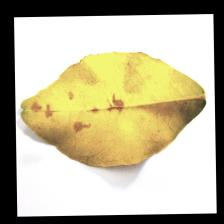black spot: (23, 88, 141, 143)
